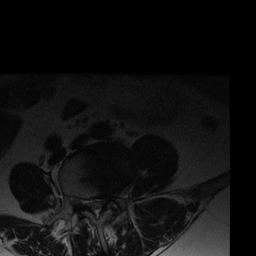CCS_normal: (93, 192, 100, 220)
LFS_severe_stenosis: (106, 188, 113, 207)
LLS_stenosis: (100, 193, 107, 212)
RFS_stenosis: (77, 191, 86, 210)
RLS_normal: (86, 192, 93, 214)
